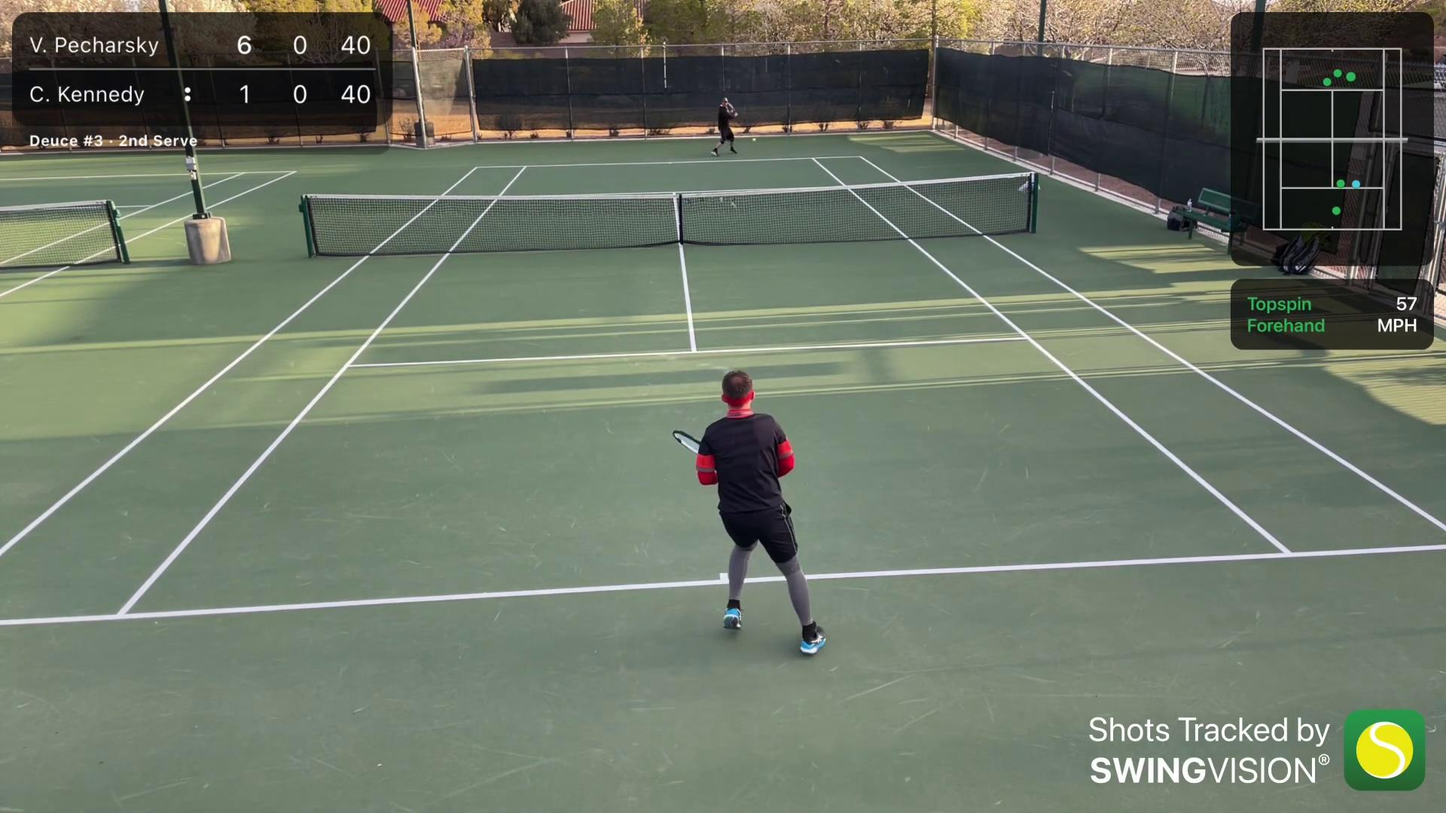ball: (751, 137, 756, 141)
